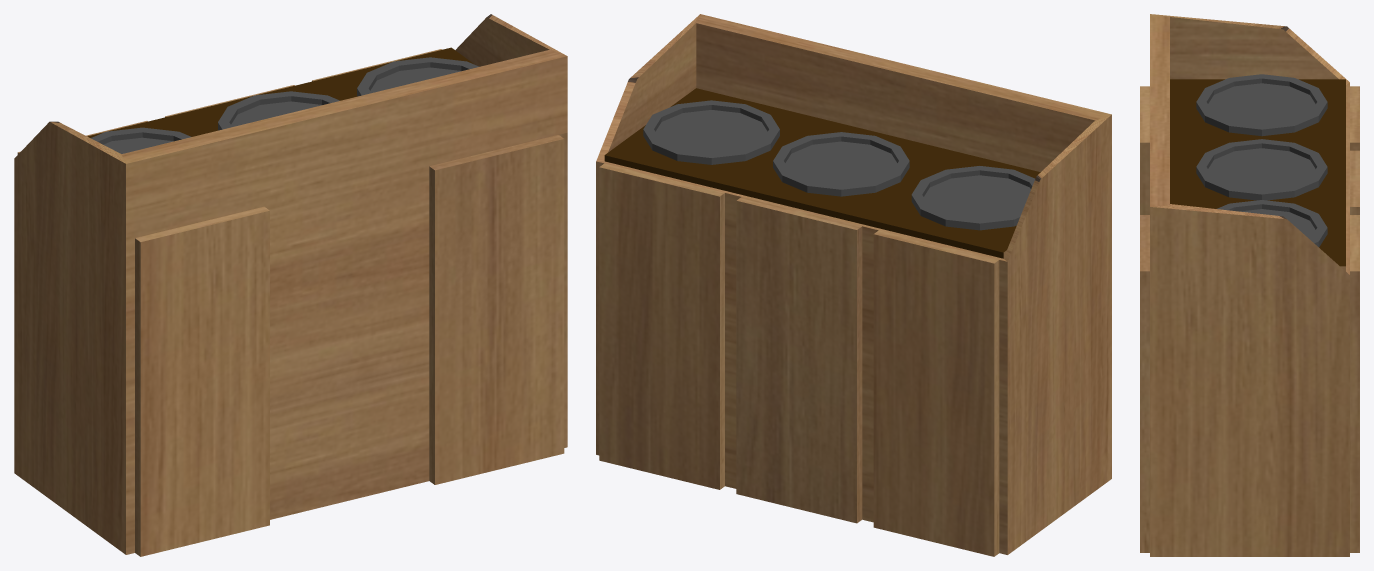
Rendered from trash.fbx.
3 views of the same model, side by side, from view 1: azimuth 30°, elevation 25°; view 2: azimuth 150°, elevation 25°; view 3: azimuth 270°, elevation 25° (orthographic). The views are drawn at different scales.
Parts seen in each view (by area): view 1: pCube30; view 2: pCube30; view 3: pCube30.
Part boxes in pixels (box(x1,y1,x2,y2)): pCube30: box(14, 14, 567, 556); pCube30: box(596, 14, 1111, 556); pCube30: box(1140, 14, 1359, 556).
Bounding box in the file's own units: 0.01 × 0.00846 × 0.00482.
2 materials, 1 textured.
